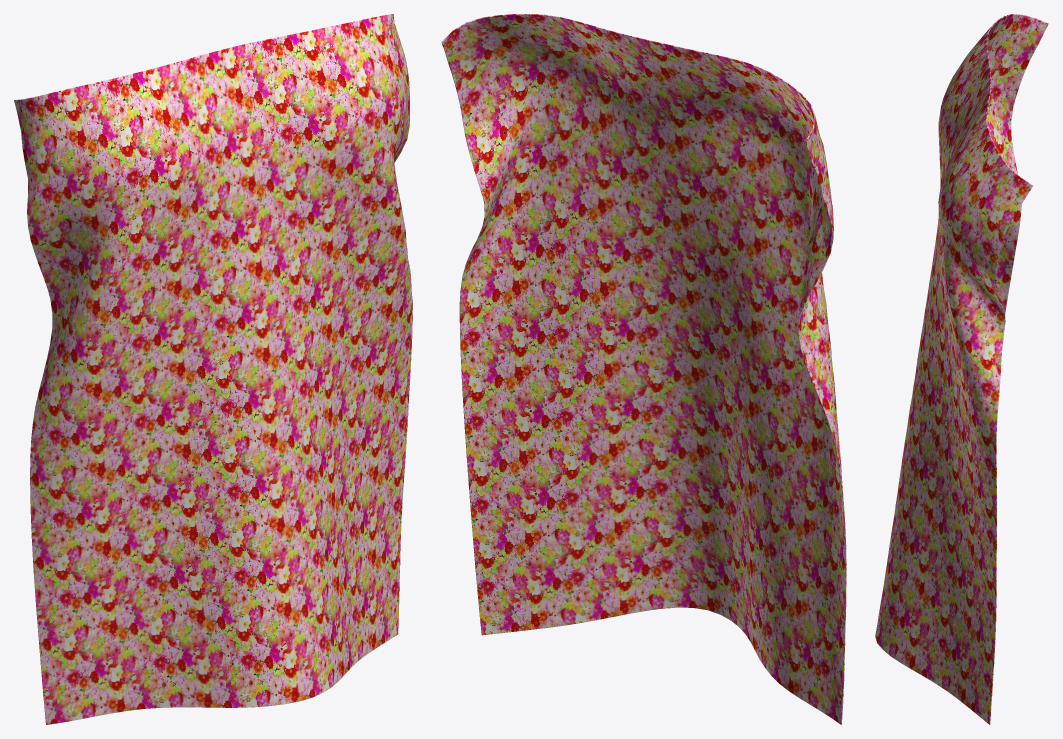
The model's file is 003a-f_Ragglan+PleatsSkirt_Print.obj.
The picture shows the model from 3 angles, left to right: view 1: azimuth 30°, elevation 25°; view 2: azimuth 150°, elevation 25°; view 3: azimuth 270°, elevation 25°; orthographic projection. The views are drawn at different scales.
Size of the model in its own units: 0.2146 by 0.3385 by 0.0925.
